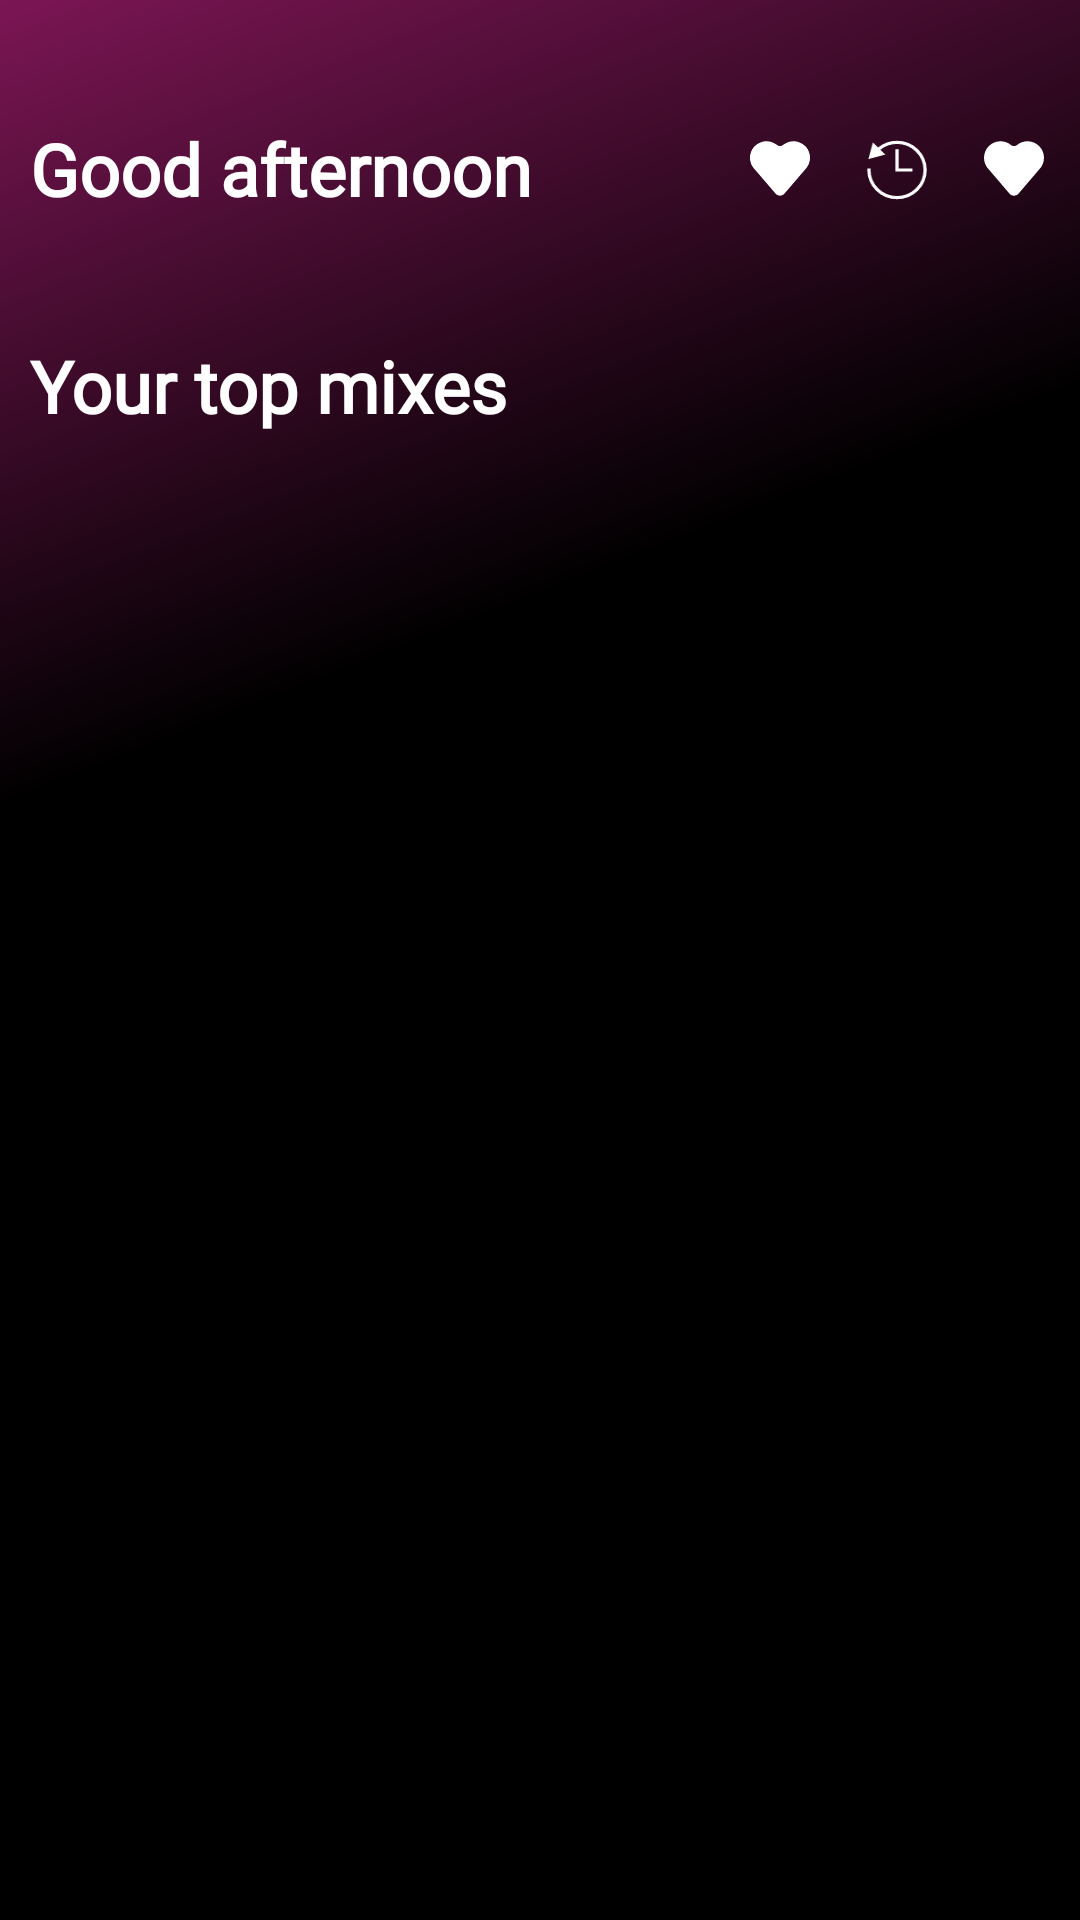

Where to tap for icons on this 1080 × 1920 app screen, as (x=x, y=y):
eis recently played: (x=897, y=170)
mediaservice like: (x=780, y=168), (x=1014, y=168)
